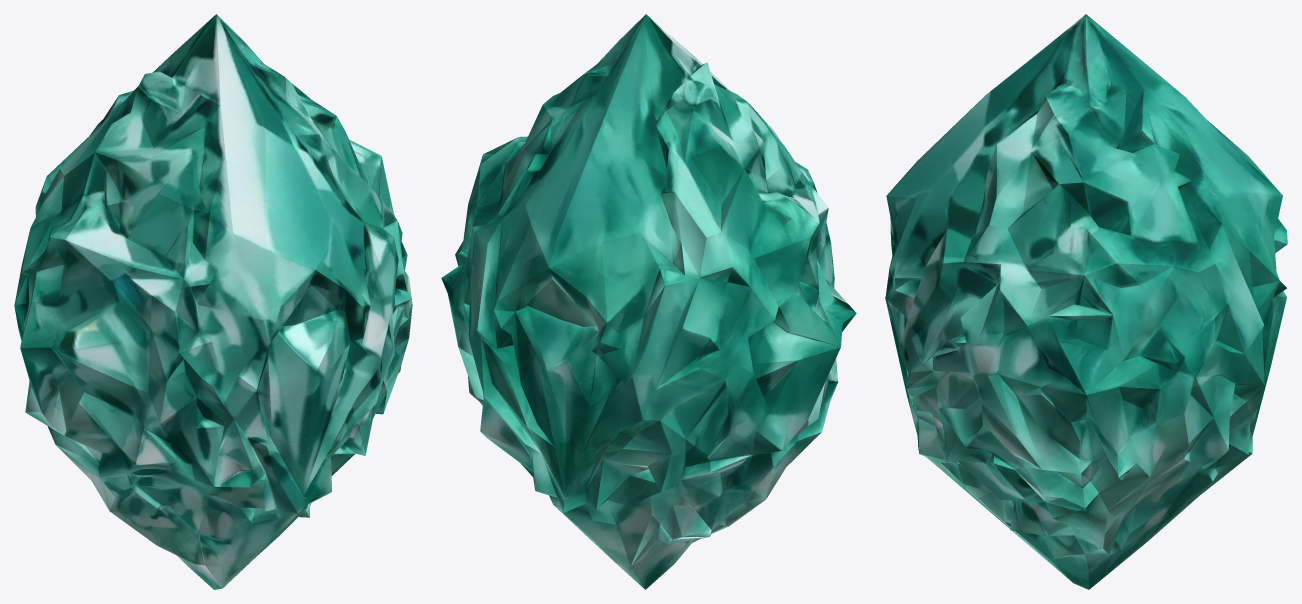
The model's file is m2IceCrystal.glb.
The picture shows the model from 3 angles, left to right: view 1: azimuth 30°, elevation 25°; view 2: azimuth 150°, elevation 25°; view 3: azimuth 270°, elevation 25°; orthographic projection.
Parts seen in each view (by area): view 1: model; view 2: model; view 3: model.
Boxes of the visible parts, left/top/right/bottom form: model: left=14, top=14, right=412, bottom=589; model: left=441, top=14, right=856, bottom=589; model: left=885, top=14, right=1287, bottom=589.
Bounding box in the file's own units: 1.34 × 1.91 × 1.21.
1 material, 1 textured.
